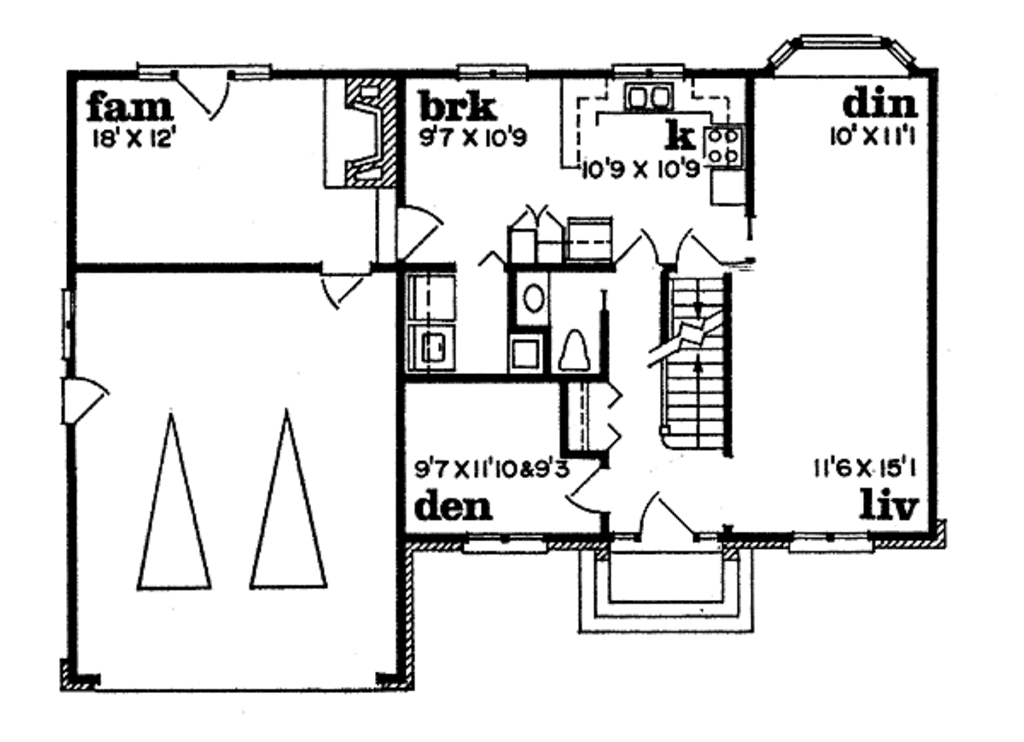door: (638, 484, 692, 547), (171, 66, 232, 121), (392, 205, 444, 256), (58, 375, 109, 427), (315, 266, 367, 310), (613, 228, 665, 272), (560, 469, 609, 515), (674, 226, 724, 266)
large_sink: (554, 324, 598, 373)
stairs: (651, 272, 729, 454)
twin_sink: (621, 83, 680, 117)
windows: (758, 24, 914, 70), (454, 530, 548, 559), (781, 530, 877, 558), (449, 59, 530, 84), (606, 57, 685, 80)
